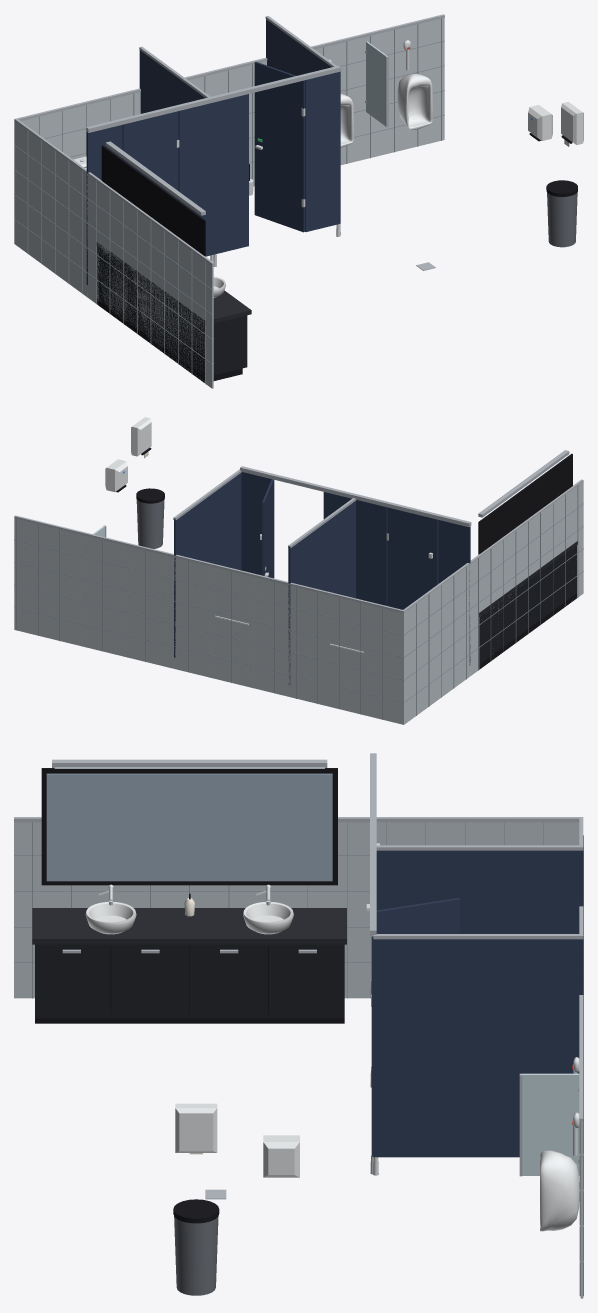
Rendered from restroom.glb.
3 views of the same model, one above another, from view 1: azimuth 30°, elevation 25°; view 2: azimuth 150°, elevation 25°; view 3: azimuth 270°, elevation 25° (orthographic). The views are drawn at different scales.
Visible parts, largest first — view 1: tile1, tile0, laminate41, cabinet92, laminate51, laminate50, laminate20, black120, laminate10, laminate17, laminate48, alu72 (+12 smaller); view 2: tile0, tile1, cabinet92, laminate48, laminate17, laminate10, black120, laminate20, laminate51, laminate19, alu6, alu72 (+13 smaller); view 3: laminate48, mirror121, cabinet92, tile1, laminate17, granite100, frost86, black120, bin131, porcelain80, laminate41, alu122 (+12 smaller).
Boxes of the visible parts, bbox=[...] form: tile1: bbox=[15, 121, 213, 388]; tile0: bbox=[14, 18, 444, 244]; laminate41: bbox=[254, 61, 304, 232]; cabinet92: bbox=[97, 246, 247, 377]; laminate51: bbox=[305, 72, 340, 231]; laminate50: bbox=[214, 94, 248, 254]; laminate20: bbox=[178, 102, 214, 256]; black120: bbox=[101, 145, 205, 256]; laminate10: bbox=[122, 111, 178, 200]; laminate17: bbox=[139, 50, 205, 113]; laminate48: bbox=[266, 19, 340, 222]; alu72: bbox=[86, 65, 340, 132]; tile0: bbox=[14, 517, 404, 724]; tile1: bbox=[402, 481, 583, 724]; cabinet92: bbox=[479, 545, 576, 664]; laminate48: bbox=[174, 473, 241, 657]; laminate17: bbox=[288, 501, 355, 684]; laminate10: bbox=[387, 507, 438, 609]; black120: bbox=[478, 453, 572, 554]; laminate20: bbox=[356, 500, 387, 605]; laminate51: bbox=[241, 472, 271, 575]; laminate19: bbox=[438, 520, 470, 665]; alu6: bbox=[14, 515, 404, 612]; alu72: bbox=[240, 466, 471, 526]; laminate48: bbox=[373, 939, 583, 1157]; mirror121: bbox=[46, 773, 332, 881]; cabinet92: bbox=[35, 944, 344, 1018]; tile1: bbox=[14, 822, 579, 998]; laminate17: bbox=[376, 850, 583, 933]; granite100: bbox=[32, 908, 346, 944]; frost86: bbox=[521, 1073, 579, 1175]; black120: bbox=[41, 768, 337, 885]; bin131: bbox=[174, 1216, 218, 1295]; porcelain80: bbox=[540, 1150, 579, 1231]; laminate41: bbox=[376, 898, 460, 933]; alu122: bbox=[52, 759, 327, 767].
Size of the model in its own units: 5.45 by 2.05 by 4.35.
